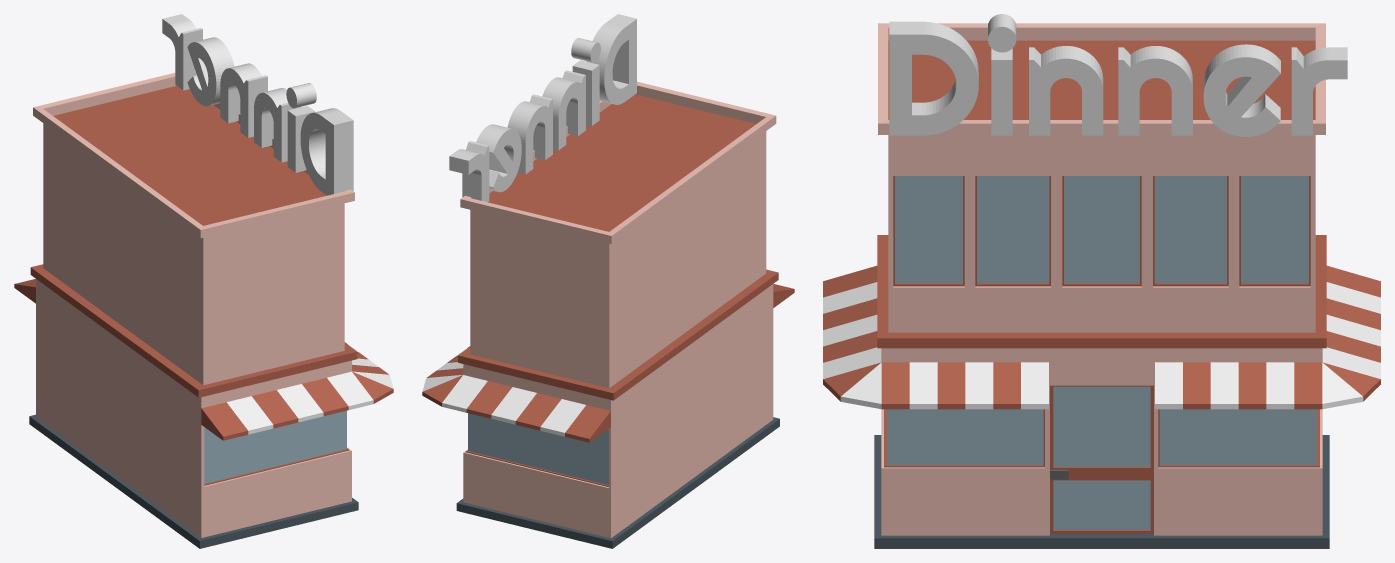
File: food-shop-p.glb
3 renders of one model, left to right at view 1: azimuth 30°, elevation 25°; view 2: azimuth 150°, elevation 25°; view 3: azimuth 270°, elevation 25°, orthographic. The views are drawn at different scales.
Parts seen in each view (by area): view 1: food shop-p; view 2: food shop-p; view 3: food shop-p.
Part boxes in pixels (x1,y1,x2,y2): food shop-p: (14, 14, 393, 548); food shop-p: (422, 14, 794, 548); food shop-p: (823, 14, 1380, 548).
Bounding box in the file's own units: 3.4 × 6.59 × 6.37.
1 material, 1 textured.
